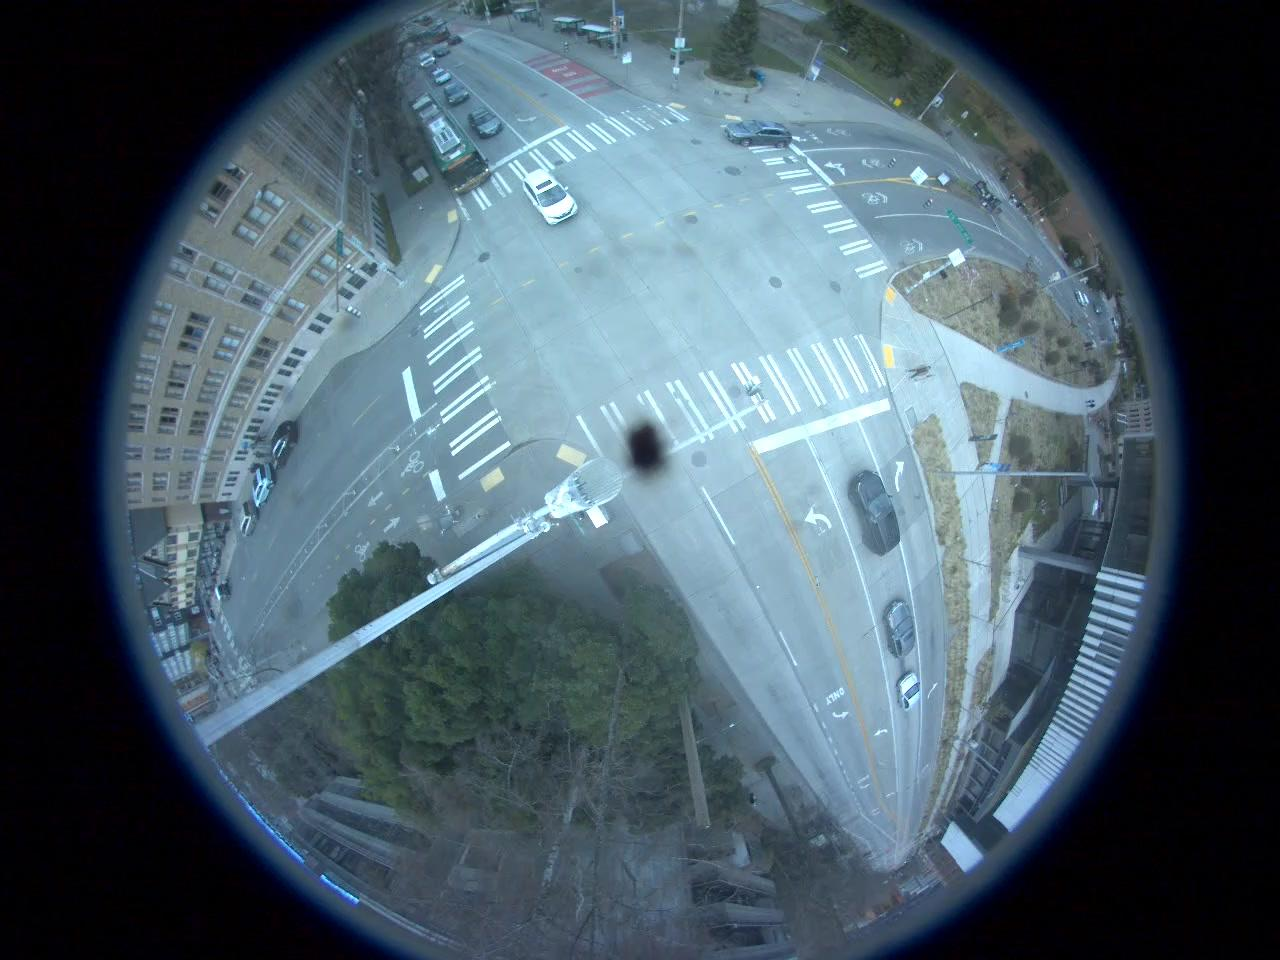bus: (413, 94, 485, 194)
car: (854, 475, 898, 560), (522, 170, 580, 228), (724, 121, 799, 149), (885, 599, 917, 658), (266, 416, 298, 474), (472, 108, 509, 142), (896, 670, 922, 712), (238, 500, 260, 541), (252, 466, 274, 502), (448, 84, 470, 107), (437, 70, 452, 84)
person: (906, 362, 936, 382)
